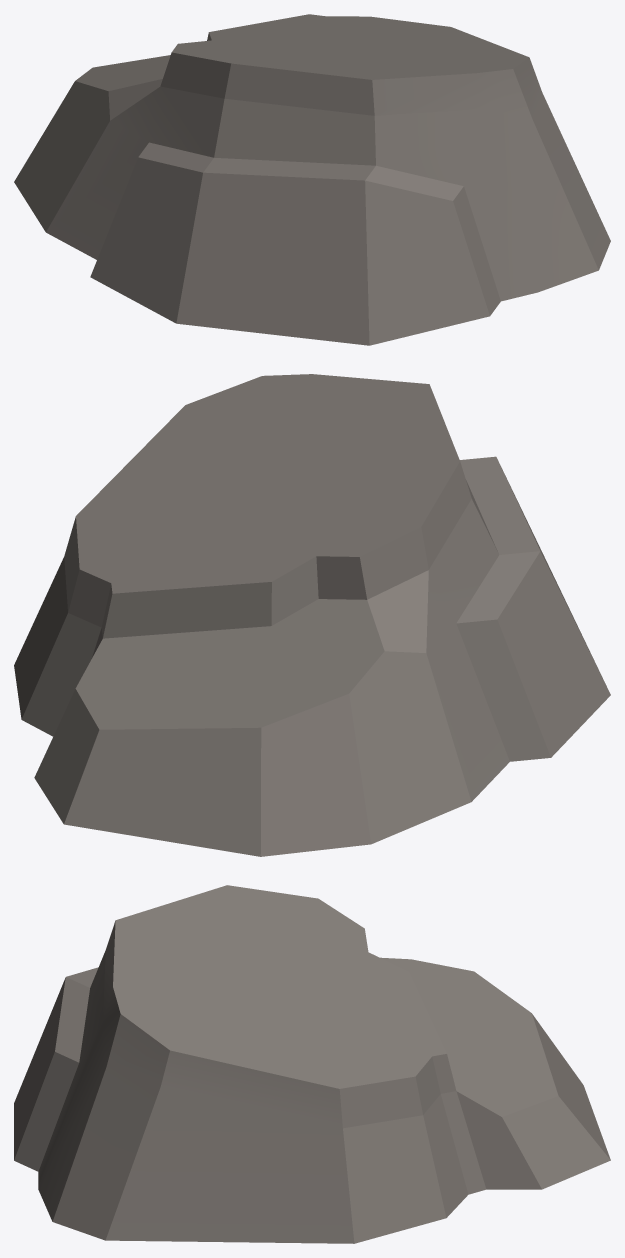
Rendered from mdl_islandRocks04.fbx.
3 views of the same model, one above another, from view 1: azimuth 30°, elevation 25°; view 2: azimuth 150°, elevation 25°; view 3: azimuth 270°, elevation 25° (orthographic). The views are drawn at different scales.
Visible parts, largest first — view 1: mdl_islandRocks05; view 2: mdl_islandRocks05; view 3: mdl_islandRocks05.
Boxes of the visible parts, bbox=[...] form: mdl_islandRocks05: bbox=[14, 14, 610, 345]; mdl_islandRocks05: bbox=[14, 374, 610, 856]; mdl_islandRocks05: bbox=[14, 885, 610, 1243].
Size of the model in its own units: 85.67 by 40.4 by 105.
